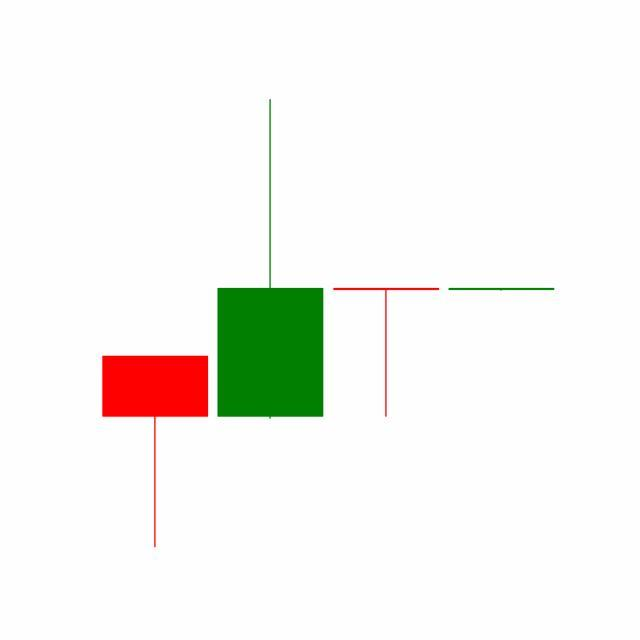Dragonfly Doji: (329, 287, 445, 420)
